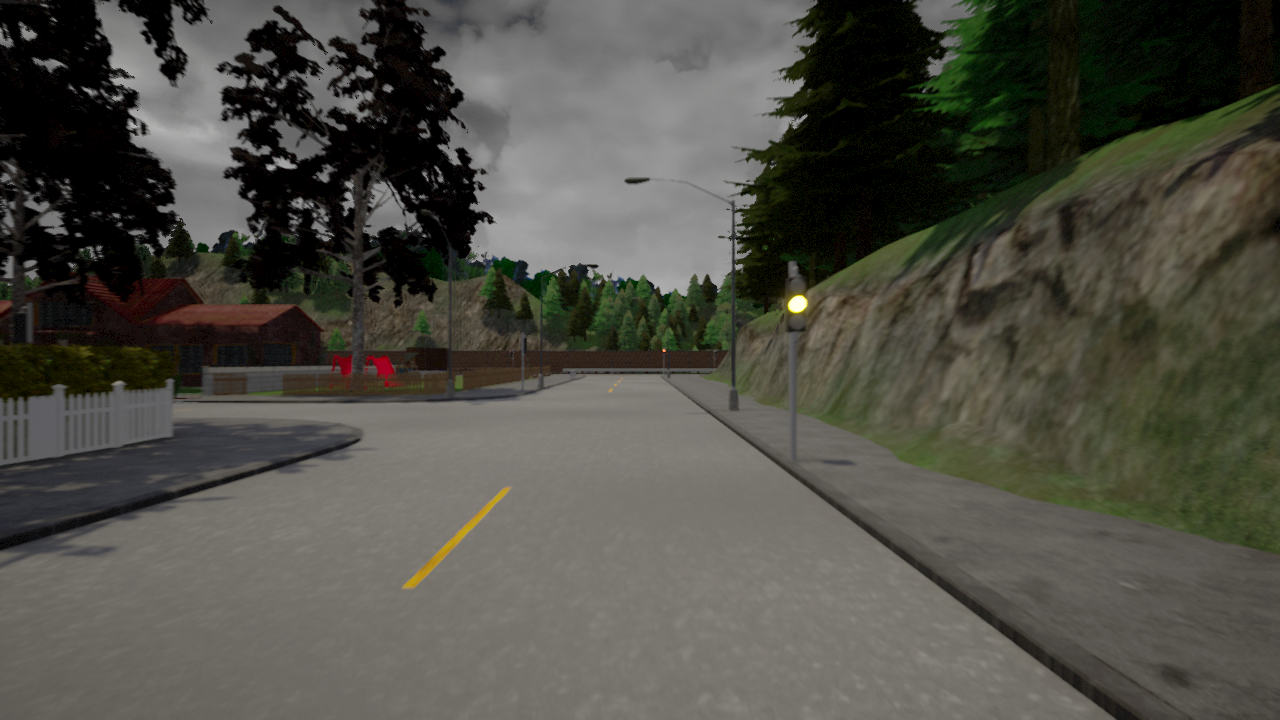yellow: (783, 275, 810, 335)
